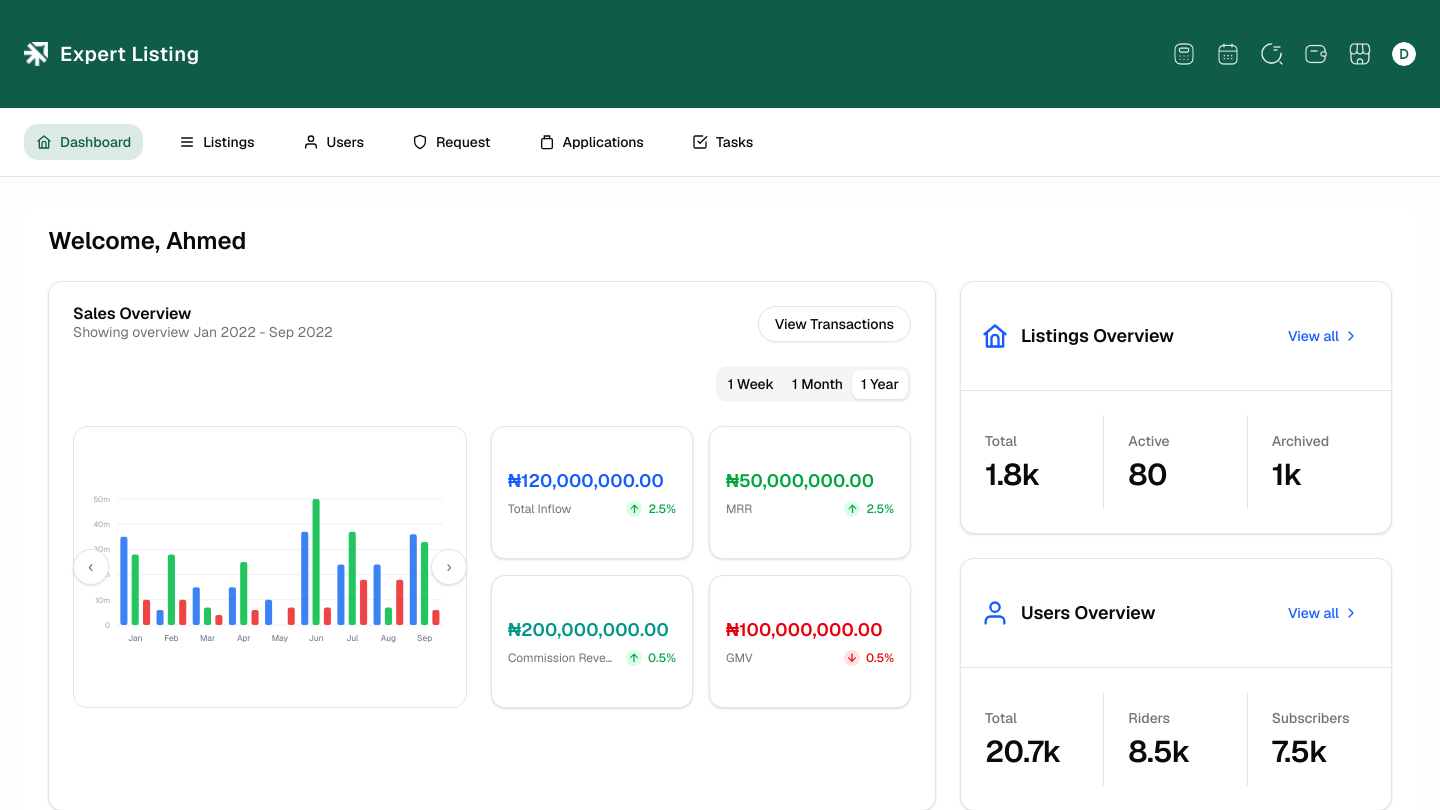
Test case: Dashboard modals › opens and closes the budget modal
Expected: the text "Set up annual budgets by account category" is not shown
Click the button named "open budgeting". click: [1184, 54]
box: [1172,42,1196,66]
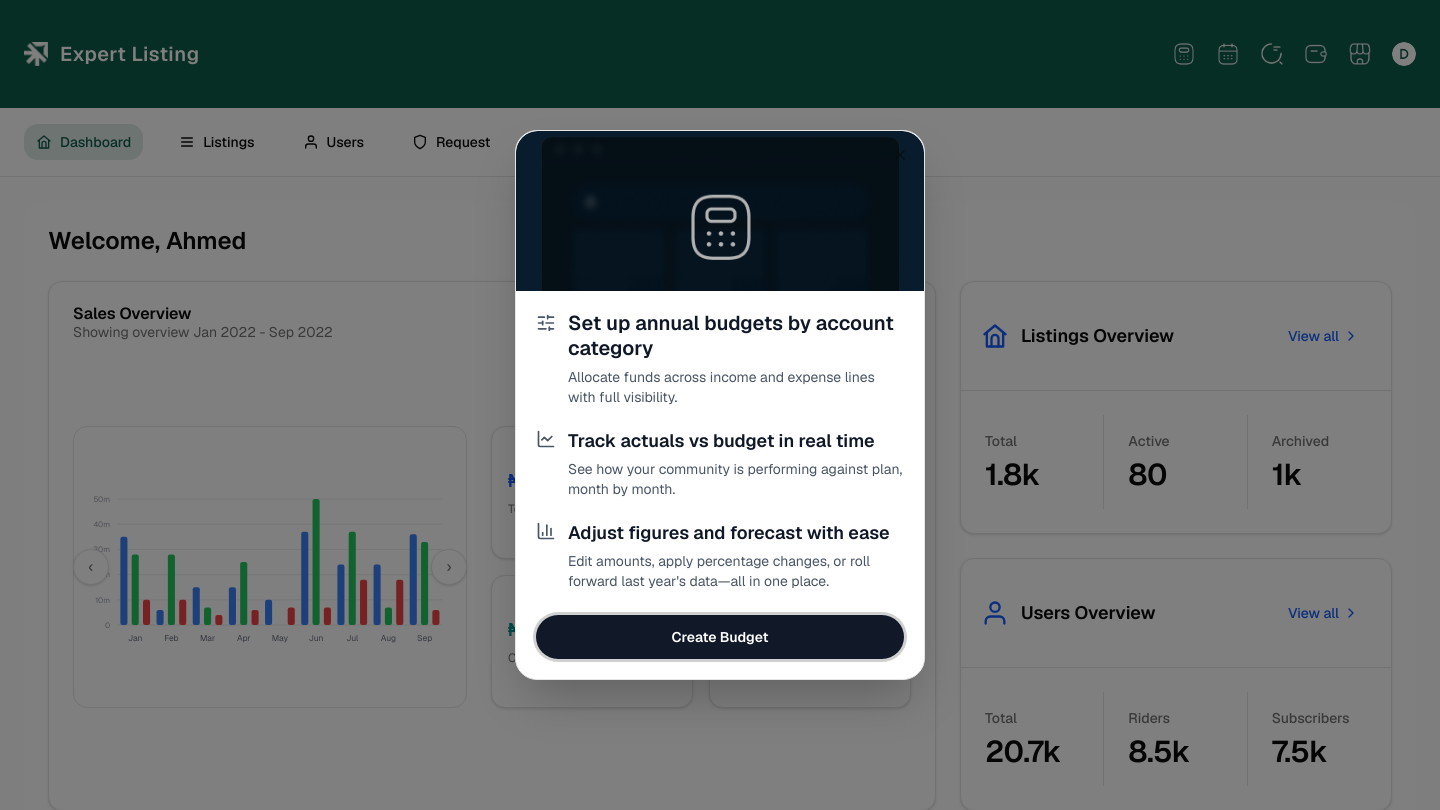
Expected: the heading "Set up annual budgets by account category" is shown, [568,311,904,361]
# Dialog close button (shadcn/radix)
Click the button named "close". click: [900, 155]
box: [892,147,908,163]
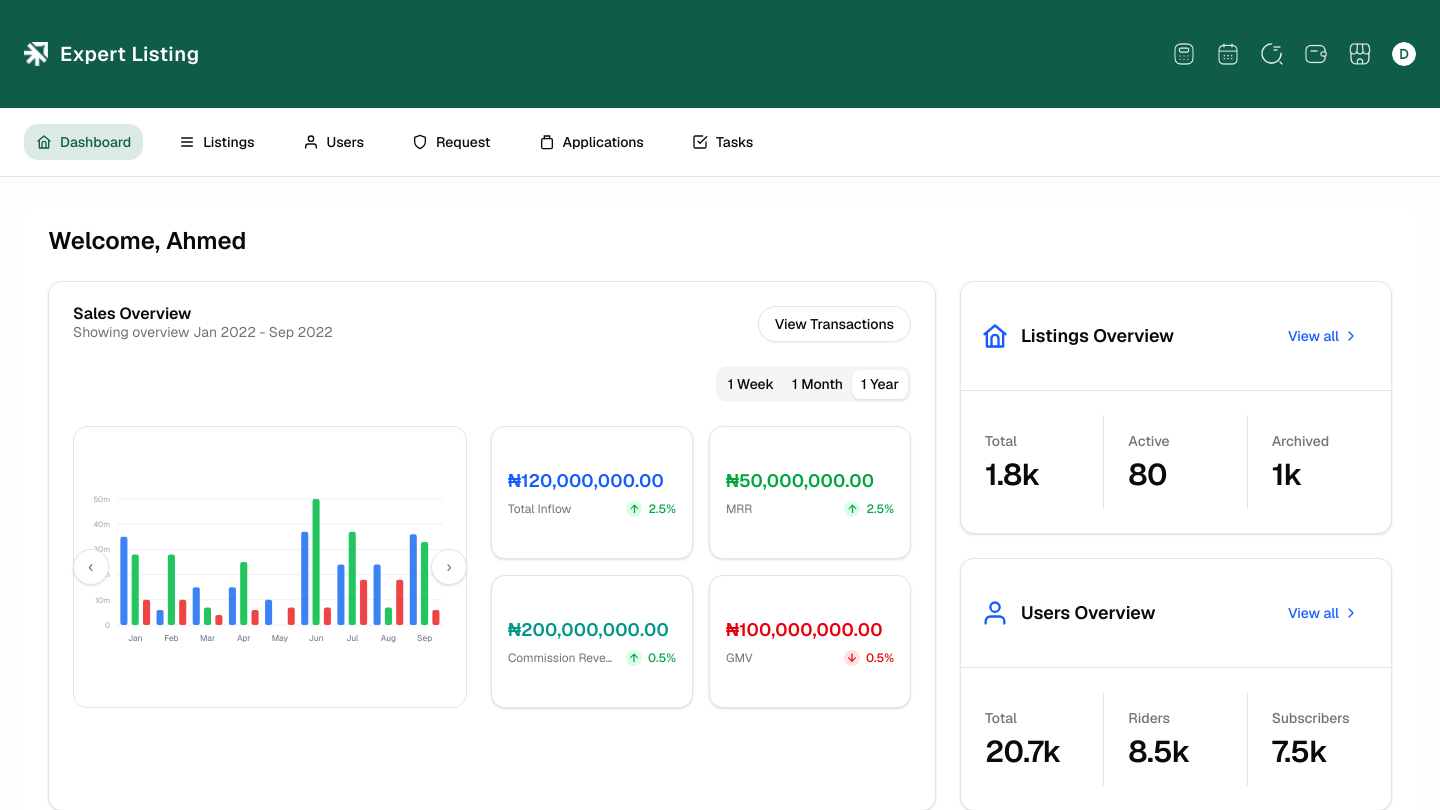
Expected: the heading "Set up annual budgets by account category" is gone
